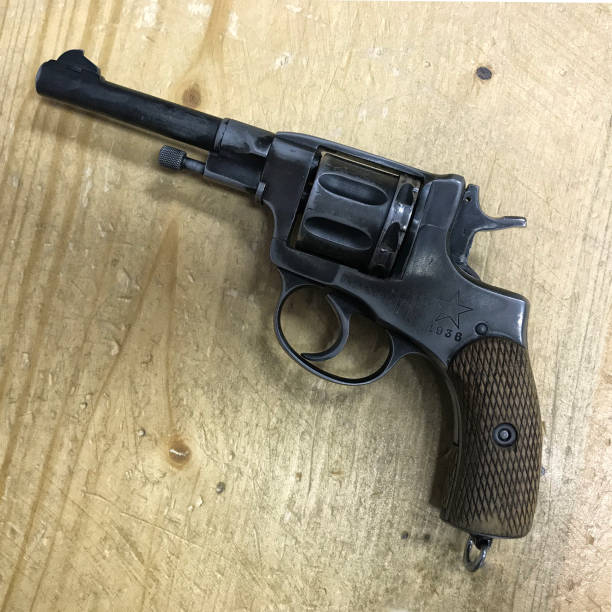gun: (32, 44, 546, 542)
